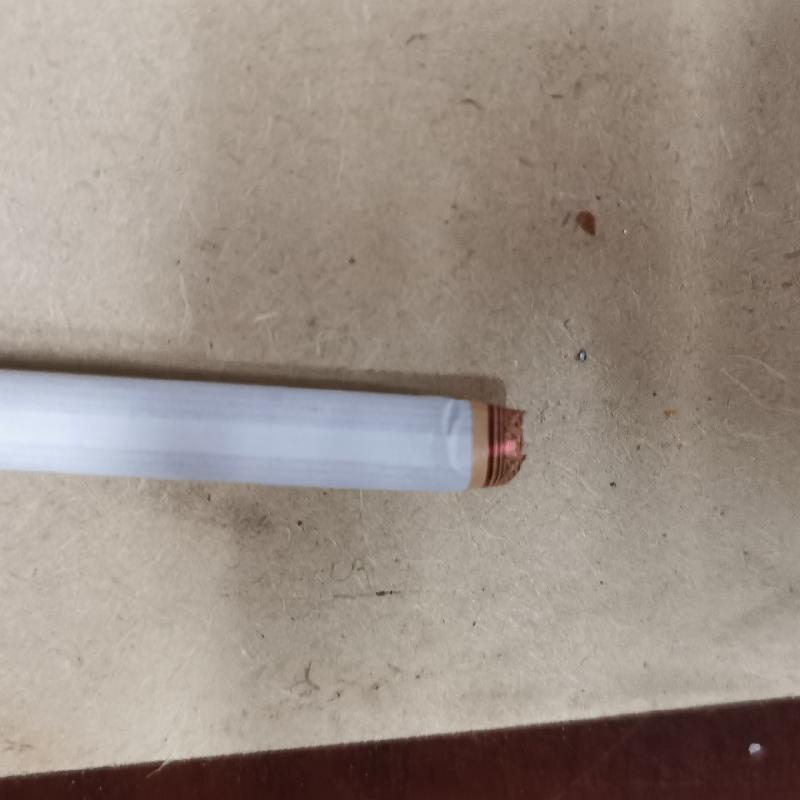cigarette: (1, 359, 524, 495)
